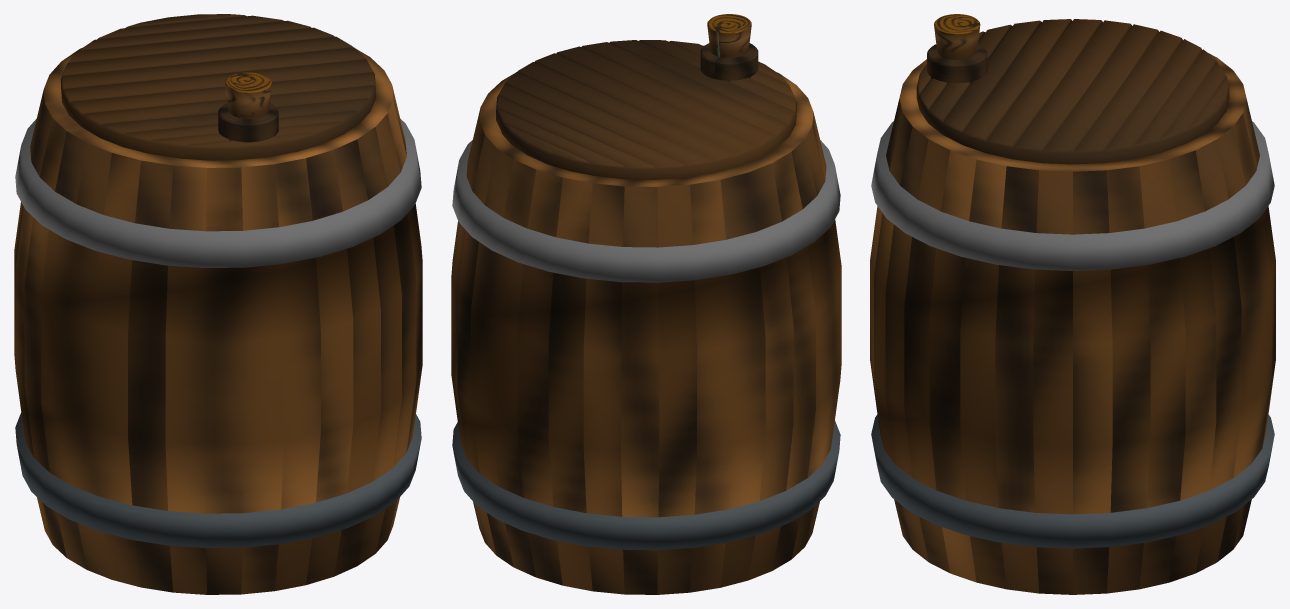
The model's file is Fass.glb.
3 renders of one model, left to right at view 1: azimuth 30°, elevation 25°; view 2: azimuth 150°, elevation 25°; view 3: azimuth 270°, elevation 25°, orthographic. The views are drawn at different scales.
Visible parts, largest first — view 1: Cylinder; view 2: Cylinder; view 3: Cylinder.
Part boxes in pixels (x1=…): Cylinder: x1=14, y1=14, x2=422, y2=594; Cylinder: x1=451, y1=14, x2=841, y2=594; Cylinder: x1=870, y1=14, x2=1275, y2=594.
Size of the model in its own units: 1.74 by 2.29 by 1.74.
2 materials, 2 textured.
